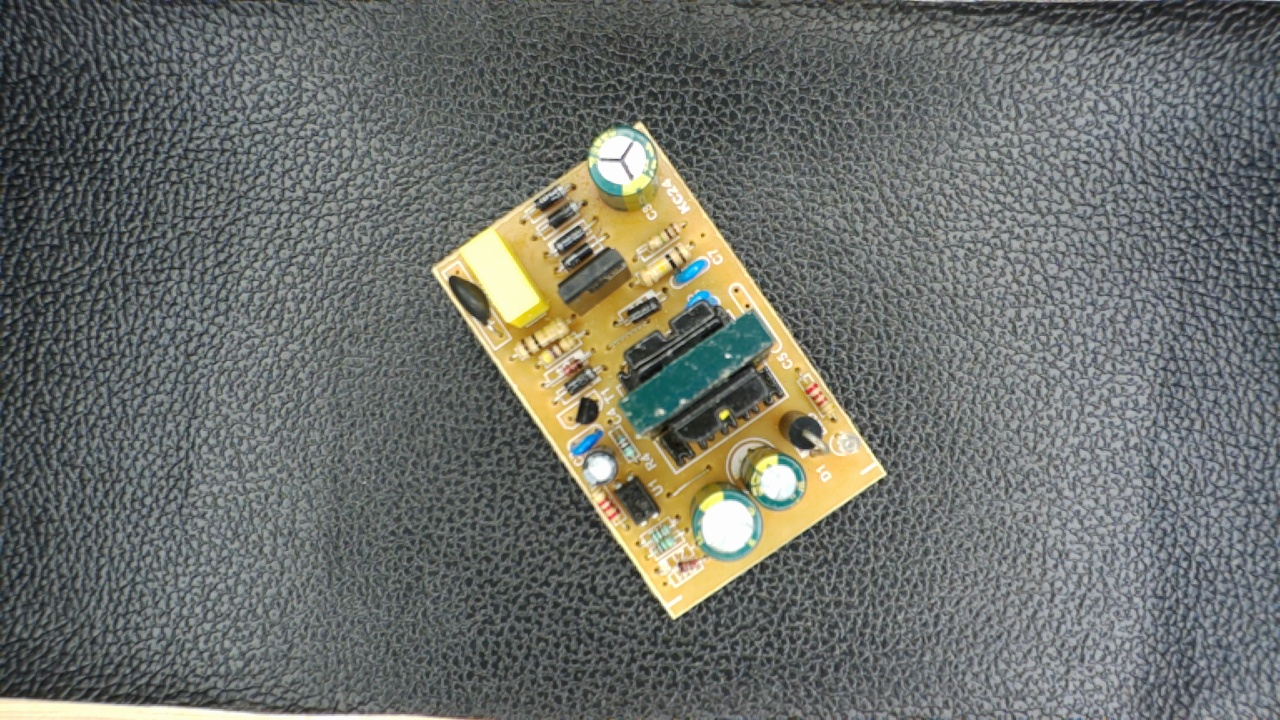fuse: (443, 270, 497, 335)
hv_capacitor: (584, 125, 665, 210)
optocoupler: (606, 471, 666, 530)
